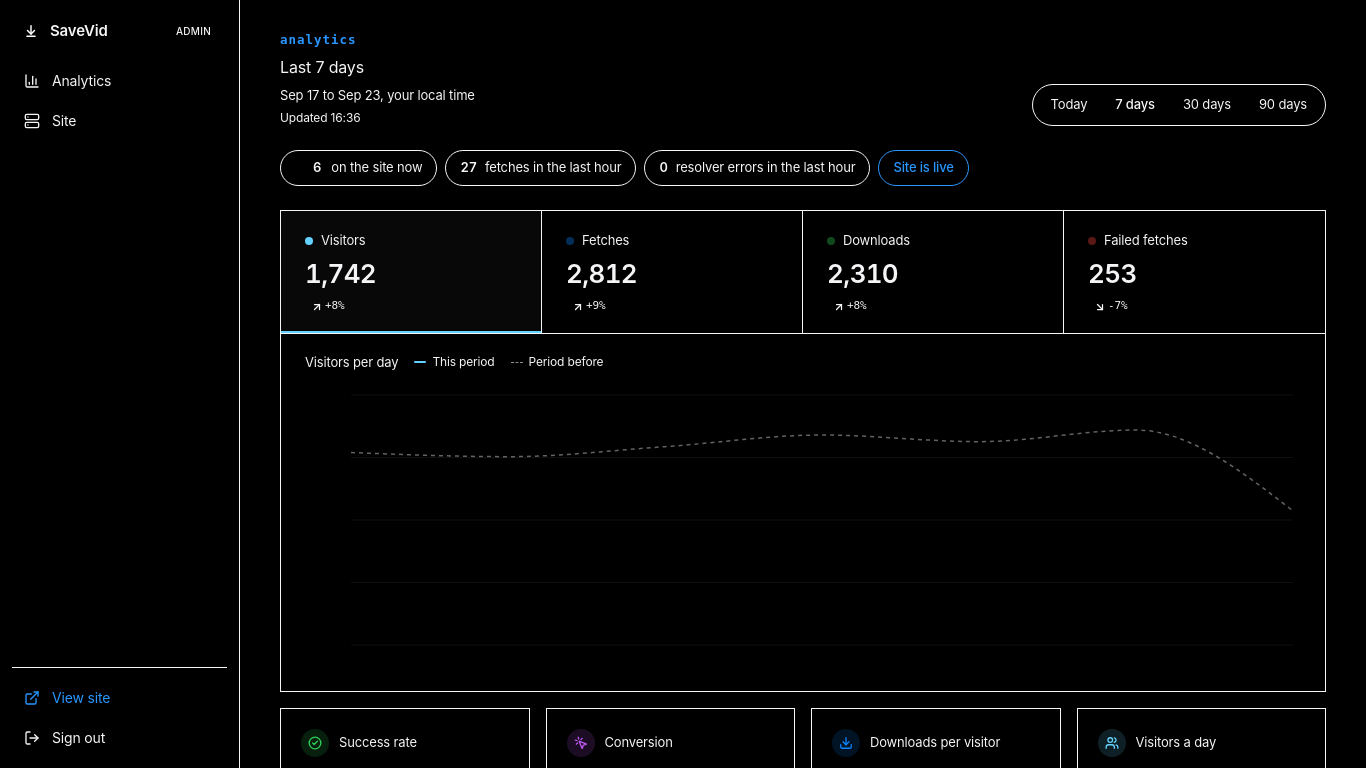
it: sign out posts to logout and returns to the login view
expect the heading "Last 7 days" is shown: met, box [280,57,364,77]
Click the button "Sign out": click(120, 738) [12,720,227,756]
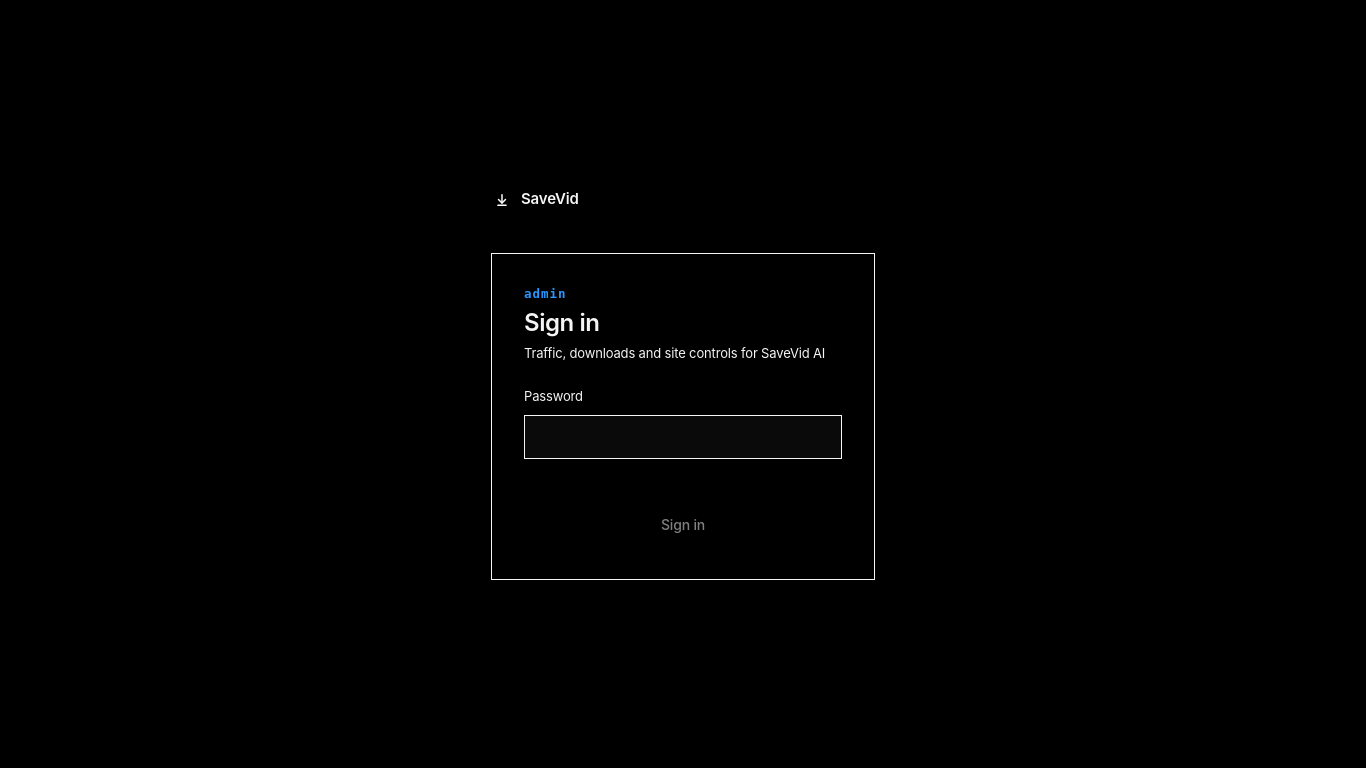
expect the password field labelled "Password" is shown: met, box [524,414,842,458]
